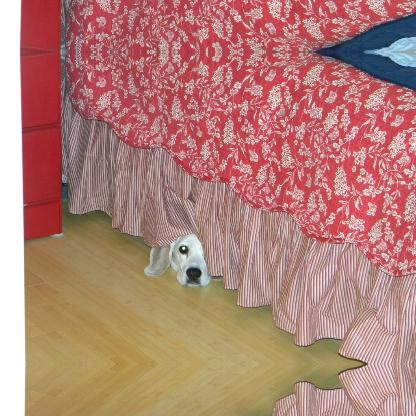Dog: (144, 233, 212, 287)
